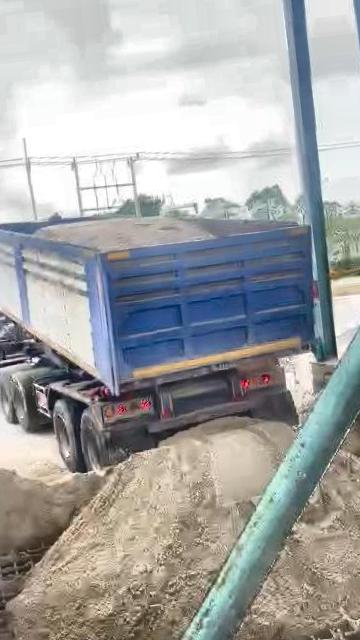sand: (10, 418, 293, 640), (233, 451, 360, 640), (0, 451, 103, 564), (37, 216, 212, 252), (284, 353, 318, 423), (344, 390, 360, 466)
